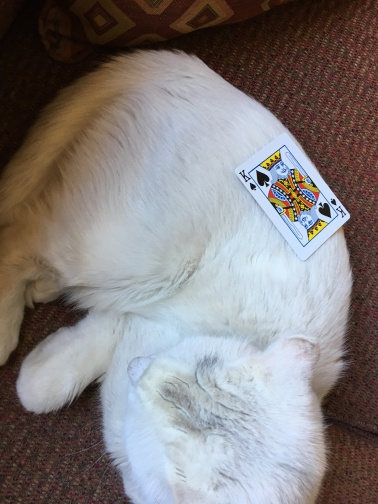king: (234, 130, 353, 262)
